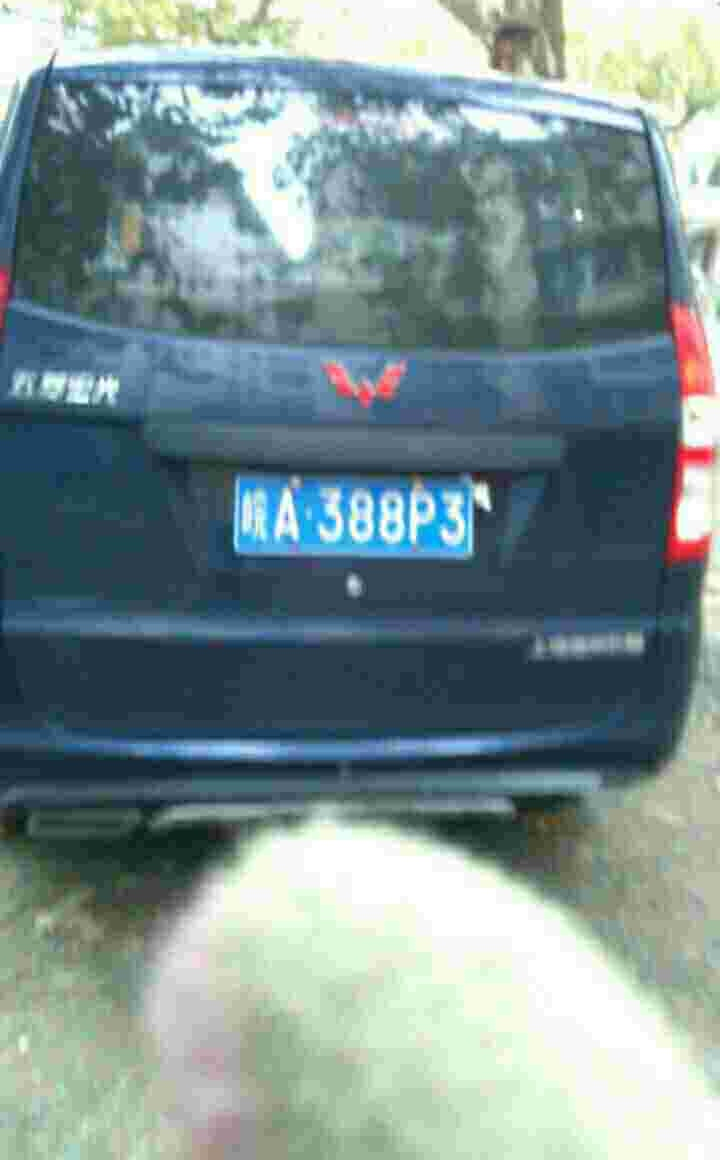plate: (237, 471, 479, 559)
